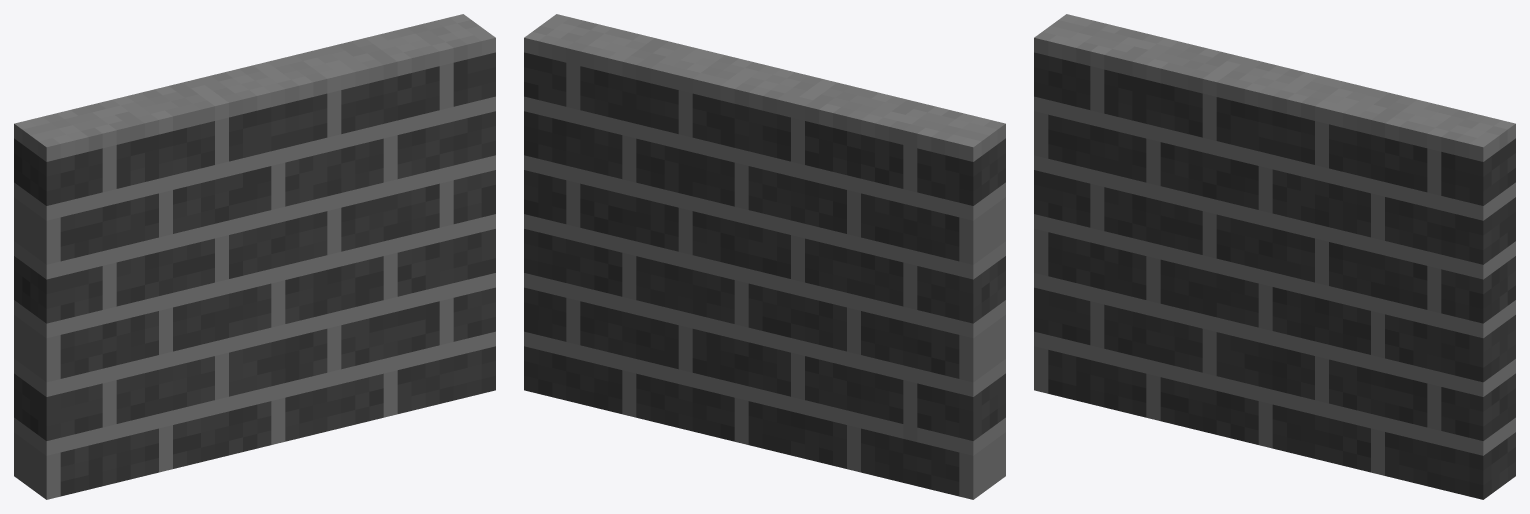
File: BrickWall.obj
3 renders of one model, left to right at view 1: azimuth 30°, elevation 25°; view 2: azimuth 150°, elevation 25°; view 3: azimuth 330°, elevation 25°, orthographic.
Size of the model in its own units: 3.2 by 2.4 by 0.4.
Materials: 1 (1 with a texture image).
